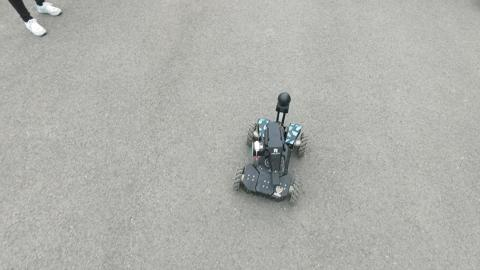chariot: (232, 90, 308, 205)
